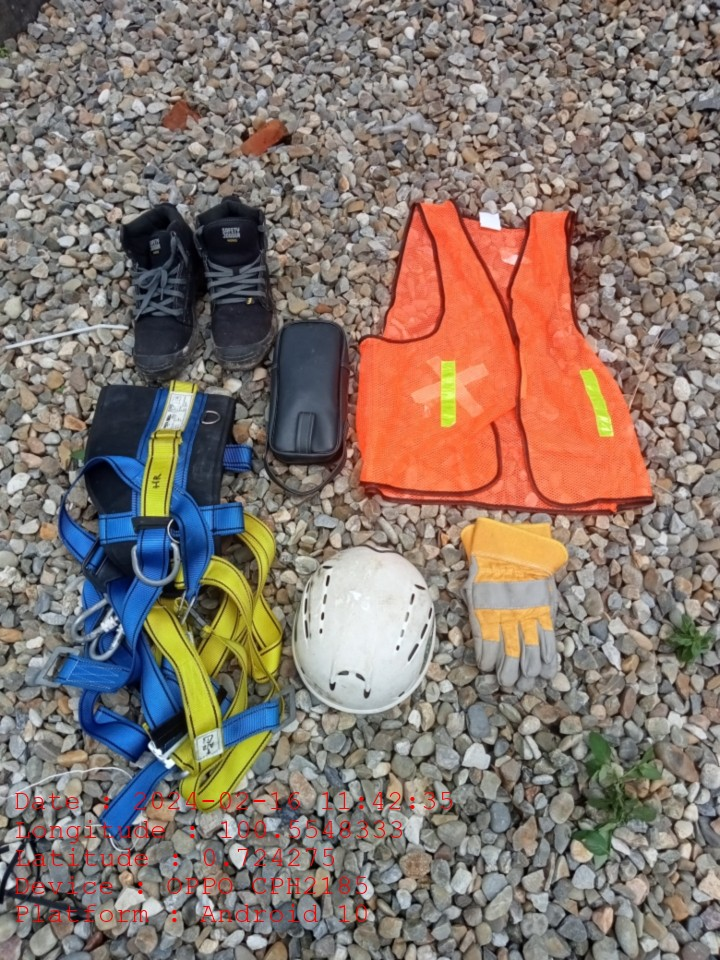HELM: (292, 544, 436, 713)
ROMPI: (358, 202, 648, 510)
SARUNG_TANGAN: (458, 516, 573, 689)
SEPATU: (124, 200, 275, 377)
